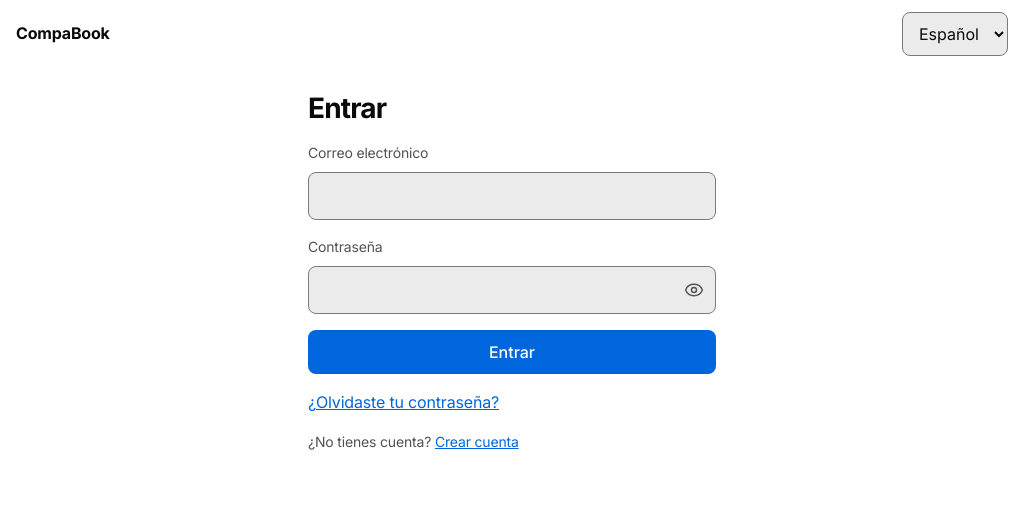
it: login › bloqueo por demasiados intentos, con los minutos que faltan
Type "ana@example.com" into the field labelled "Correo electrónico" at [512, 196], box [308,172,716,220]
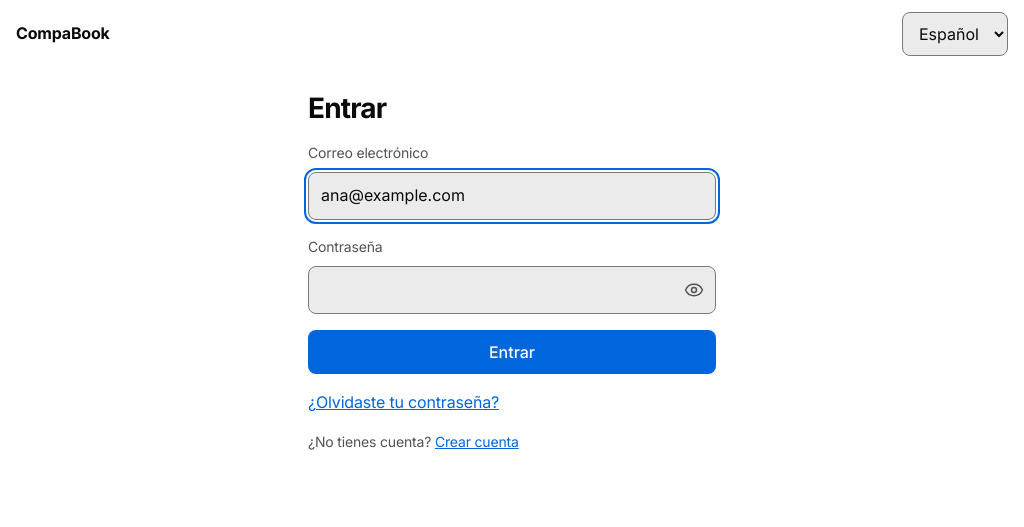
Type "caballo-grapa-azul" into the password field labelled "Contraseña" at [512, 290], box [308,266,716,314]
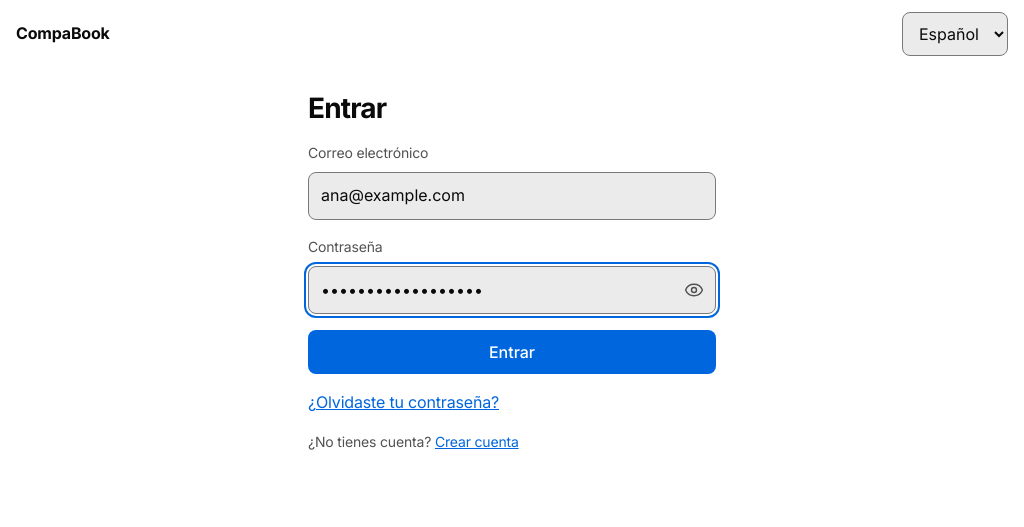
Click the button "Entrar" at [512, 352], box [308,330,716,374]
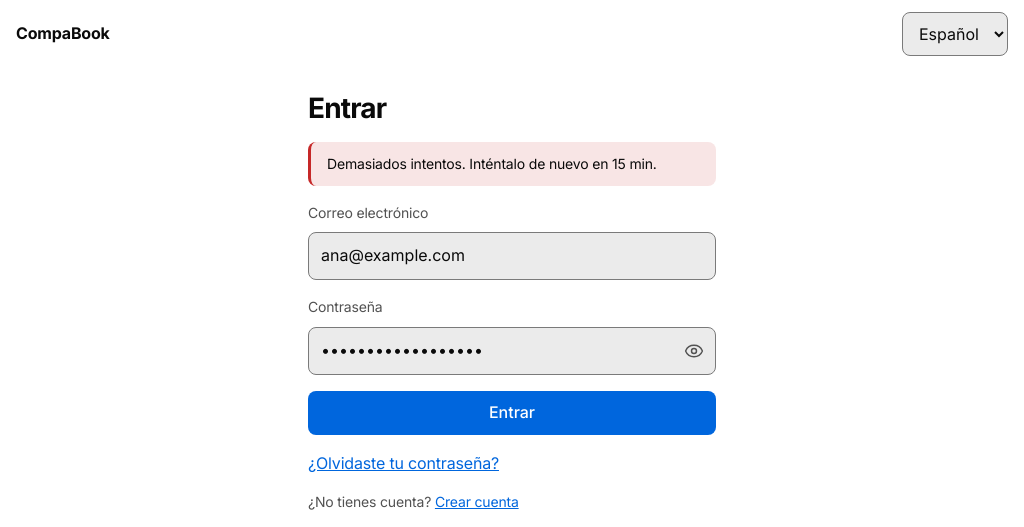
Result: the message reads "Demasiados intentos. Inténtalo de nuevo en 15 min." at [327,155,657,172]
